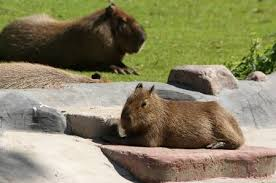capivara: (1, 2, 146, 76), (103, 83, 246, 150)
